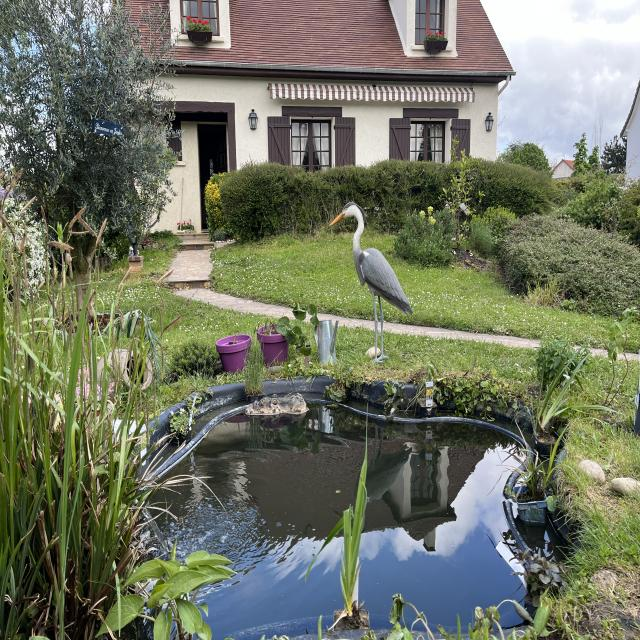Heron: (322, 191, 422, 395)
